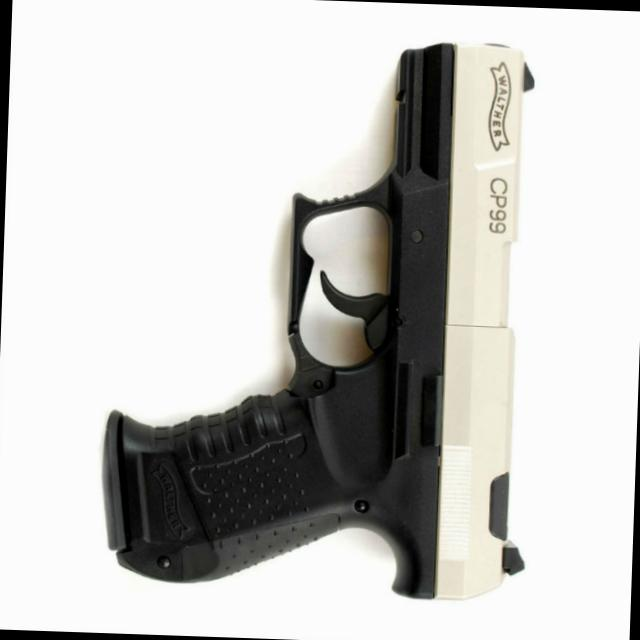handgun: (96, 25, 544, 602)
